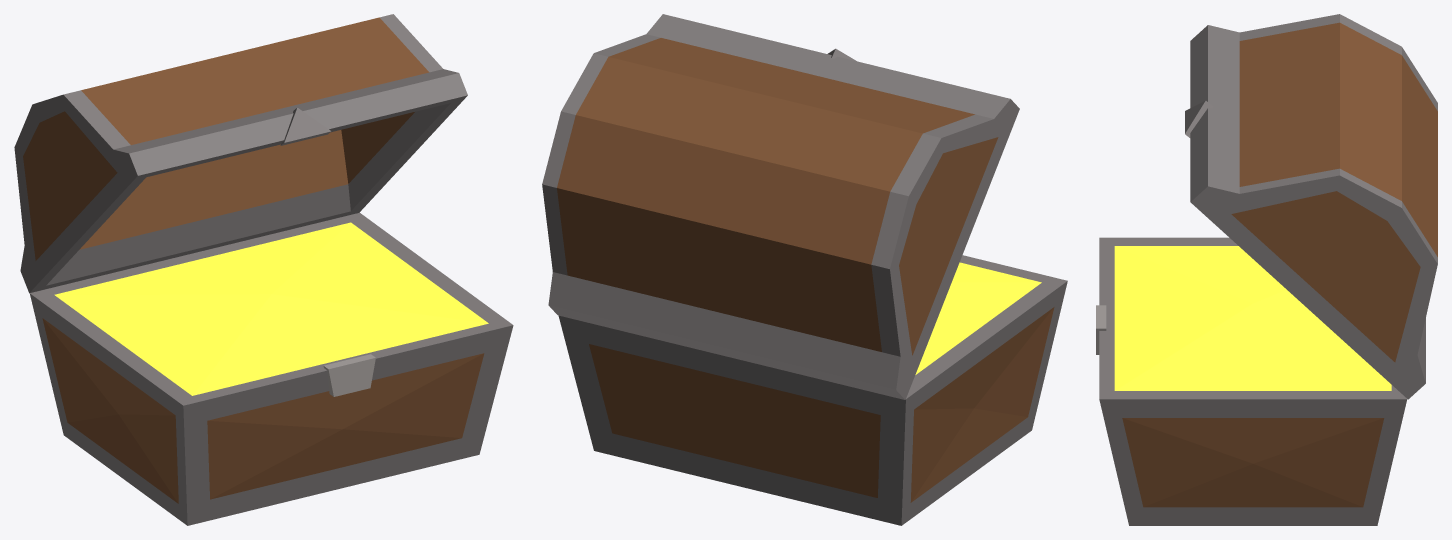
The model's file is chest.glb.
The picture shows the model from 3 angles, left to right: view 1: azimuth 30°, elevation 25°; view 2: azimuth 150°, elevation 25°; view 3: azimuth 270°, elevation 25°; orthographic projection. The views are drawn at different scales.
Parts seen in each view (by area): view 1: chest-base, chest-top; view 2: chest-top, chest-base; view 3: chest-base, chest-top.
Part boxes in pixels (x1,y1,x2,y2): chest-base: (30,212,513,525); chest-top: (14,14,467,293); chest-top: (542,14,1019,399); chest-base: (558,255,1067,525); chest-base: (1096,237,1407,525); chest-top: (1185,14,1437,399).
Bounding box in the file's own units: 0.9602 × 1.01 × 0.8591.
1 material, 1 textured.
